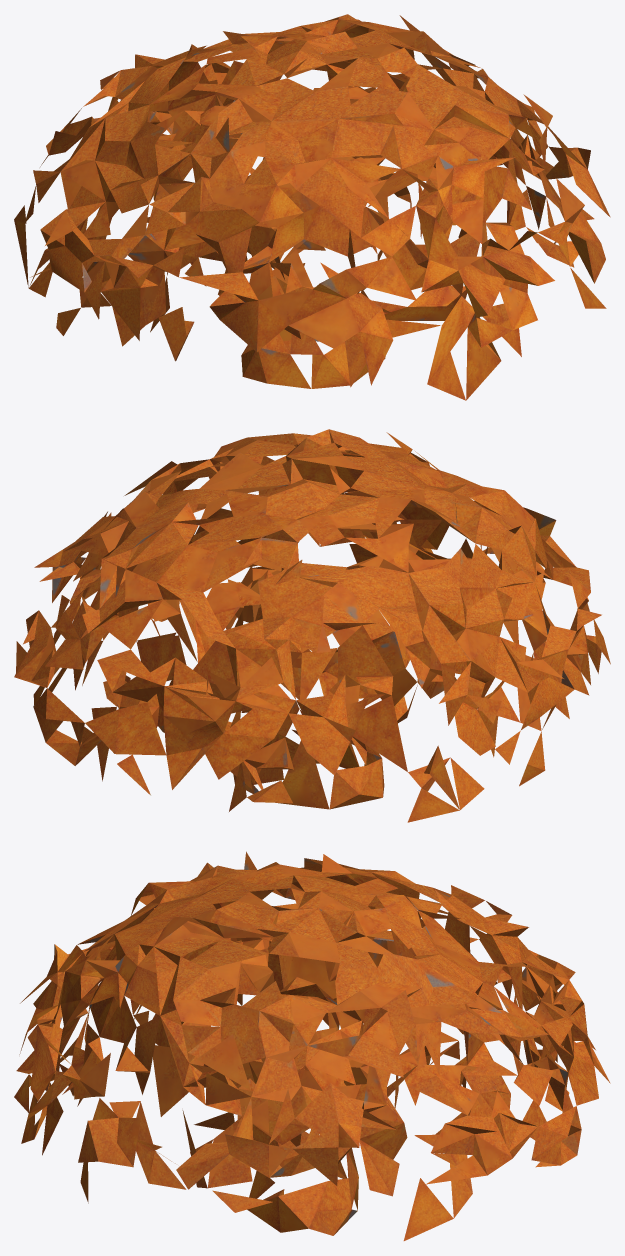
3 renders of one model, top to bottom at view 1: azimuth 30°, elevation 25°; view 2: azimuth 150°, elevation 25°; view 3: azimuth 270°, elevation 25°, orthographic.
Bounding box in the file's own units: 1.71 × 1.02 × 1.73.
1 material, 1 textured.
